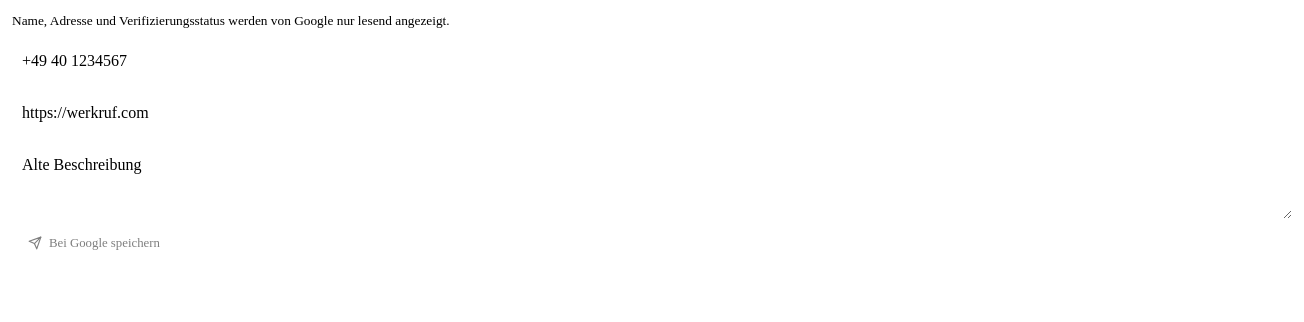
Scenario: Umgezogener Editor — Sicherheitskorrekturen › zeigt einen API-Fehler dauerhaft
Replace the text in the field named "Telefonnummer" with "keine-nummer" at (652, 61), box [12, 39, 1292, 83]
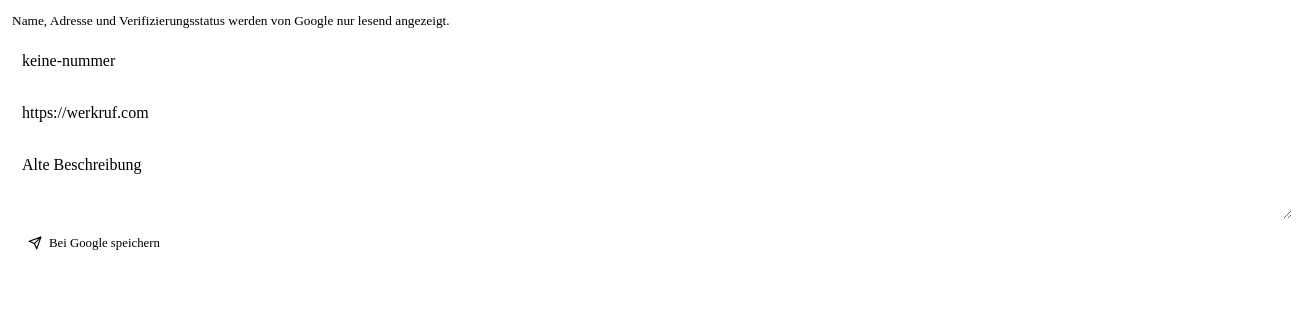
Click the button "Bei Google speichern" at (94, 243), box [12, 226, 176, 260]
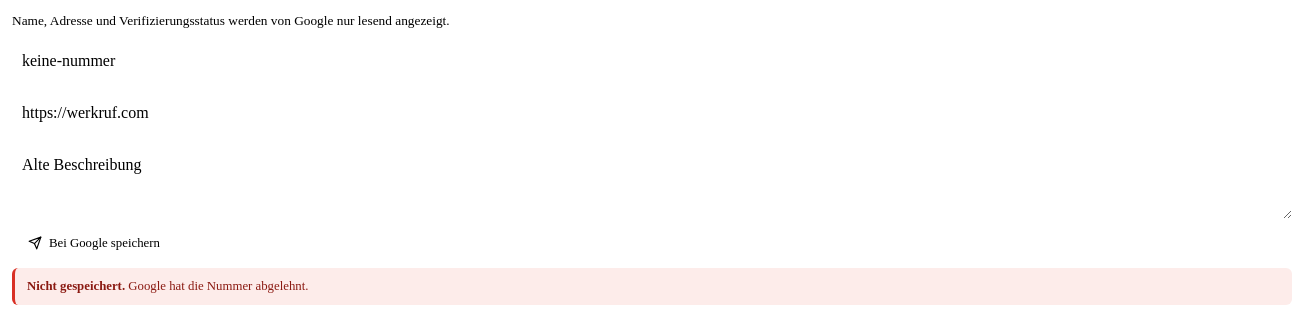
Result: the message shows "abgelehnt" at [128, 278, 308, 292]
